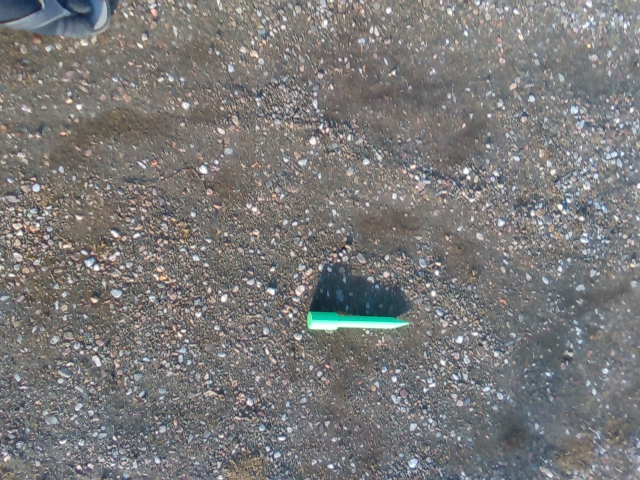Probe: (302, 308, 416, 334)
